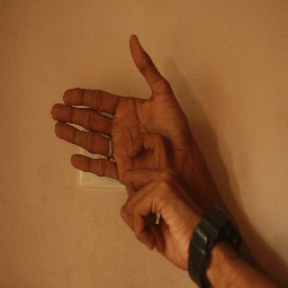R: (47, 35, 197, 232)
